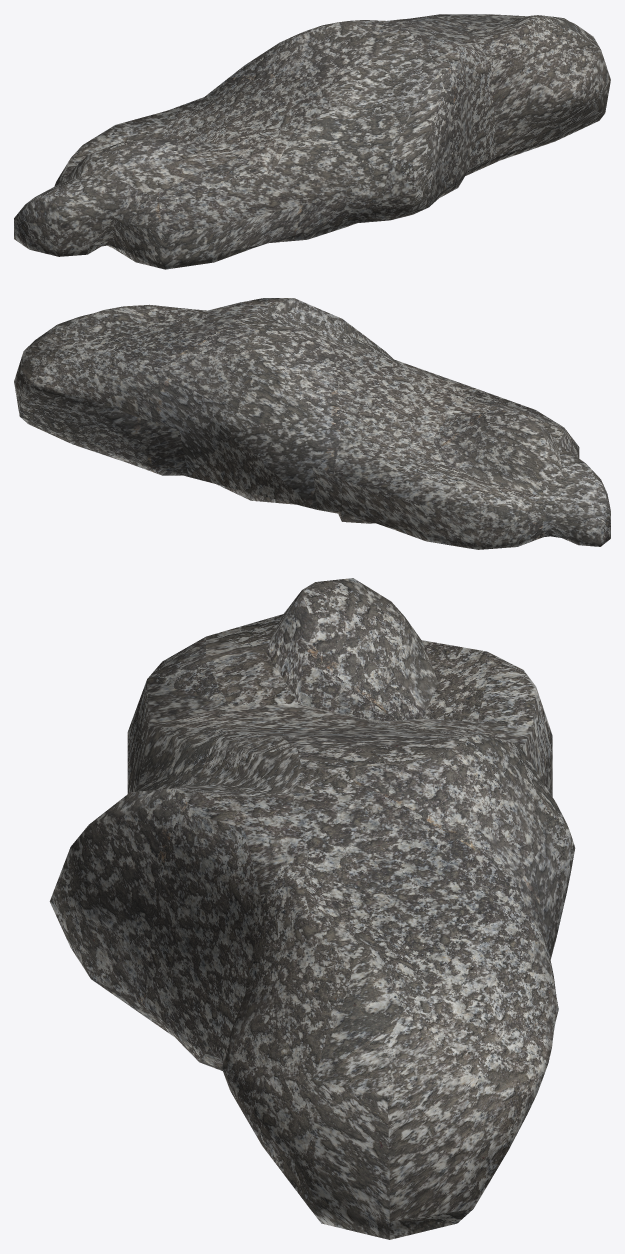
The model's file is Rock no cover 4.fbx.
3 views of the same model, one above another, from view 1: azimuth 30°, elevation 25°; view 2: azimuth 150°, elevation 25°; view 3: azimuth 270°, elevation 25° (orthographic). The views are drawn at different scales.
Visible parts, largest first — view 1: Rock; view 2: Rock; view 3: Rock.
Part boxes in pixels (<box>): Rock: <box>14,14,610,269</box>; Rock: <box>14,298,610,549</box>; Rock: <box>49,578,575,1239</box>.
Size of the model in its own units: 4.45 by 0.9713 by 1.76.
1 material, 1 textured.
